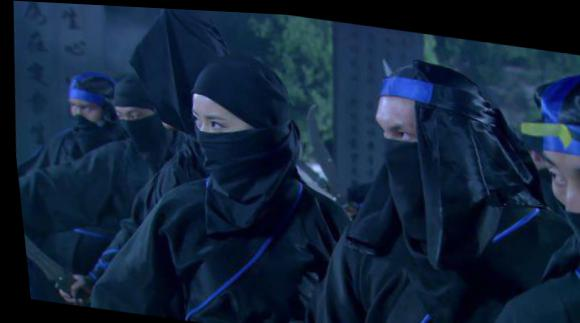OK: (368, 108, 442, 194), (183, 101, 255, 176), (111, 104, 156, 145)
WRONG: (529, 142, 580, 274), (66, 98, 101, 133)
